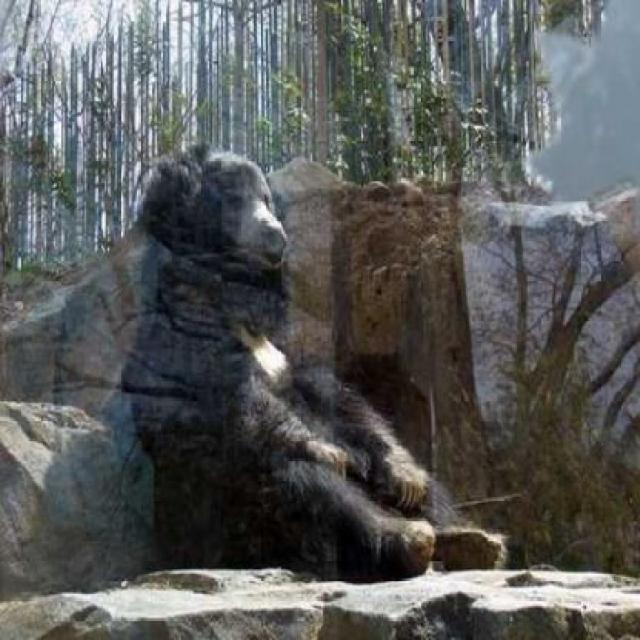Bear: (100, 128, 518, 592)
